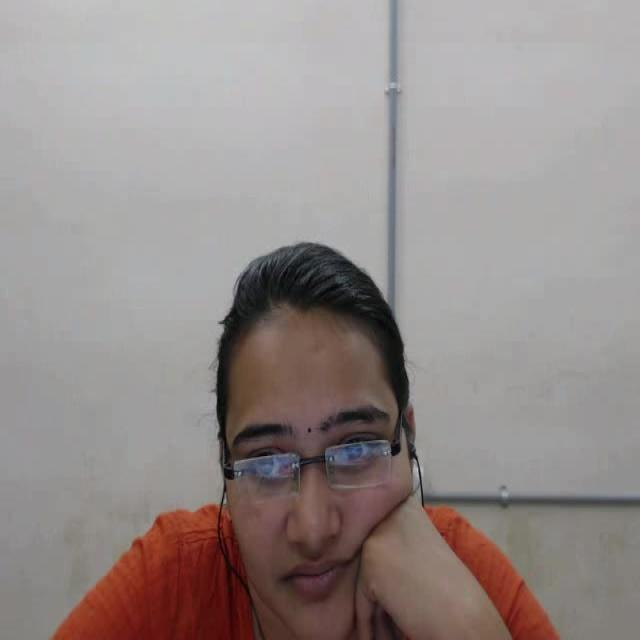Bored: (156, 216, 484, 640)
